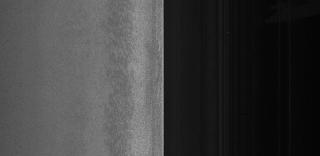silk spot: (110, 62, 142, 110)
